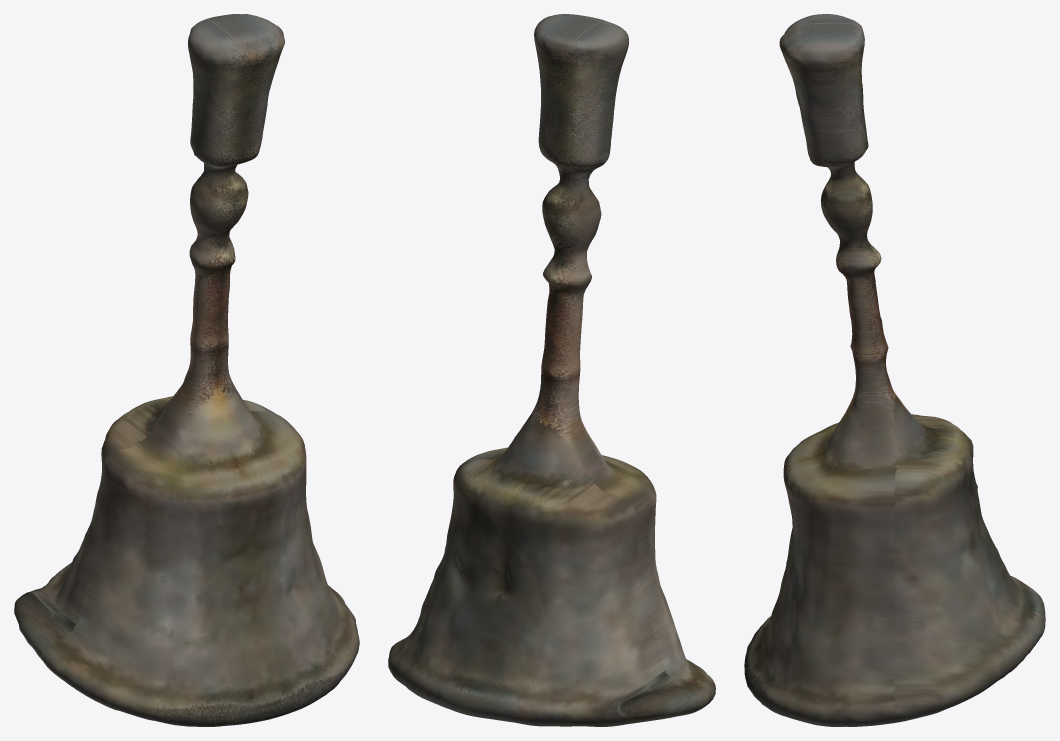
File: kfl-2310.glb
3 renders of one model, left to right at view 1: azimuth 30°, elevation 25°; view 2: azimuth 150°, elevation 25°; view 3: azimuth 270°, elevation 25°, orthographic.
Parts seen in each view (by area): view 1: geometry_0; view 2: geometry_0; view 3: geometry_0.
Boxes of the visible parts, <box> form: geometry_0: <box>14,14,359,726</box>; geometry_0: <box>388,14,715,726</box>; geometry_0: <box>744,14,1045,726</box>.
Bounding box in the file's own units: 0.4636 × 0.9985 × 0.4149.
Materials: 1 (1 with a texture image).
